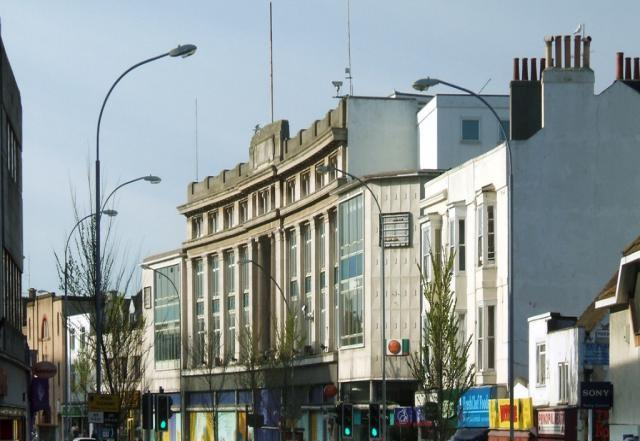green_light: (368, 402, 381, 439), (157, 394, 169, 431), (342, 403, 354, 438)
